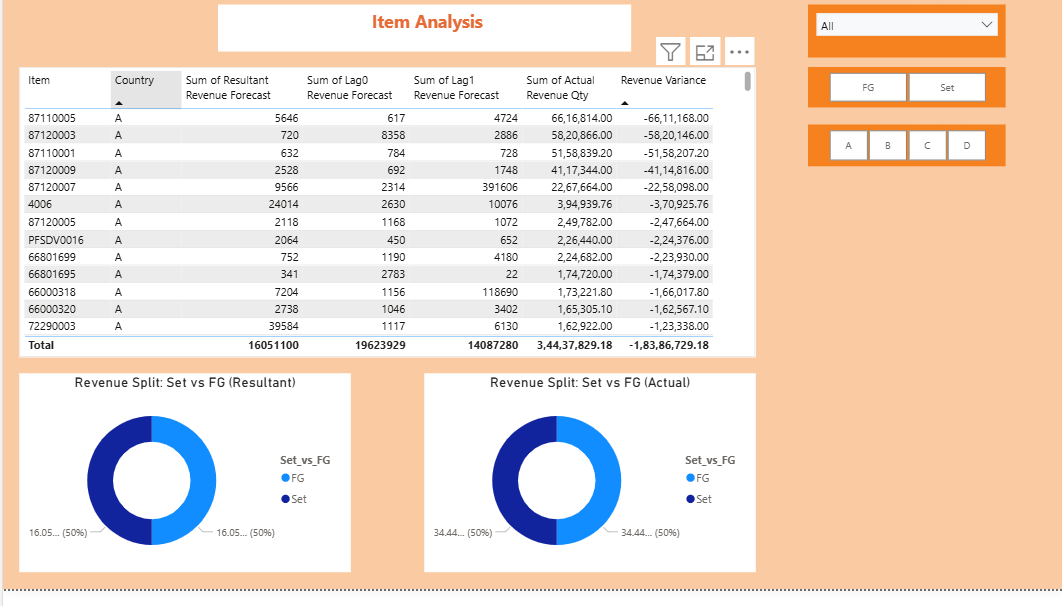

What the dashboard file says about the page in this screenshot:
{"tool":"powerbi","page":{"name":" Item Level Analysis","canvas":[1280,720],"ordinal":4},"visuals":[{"type":"slicer","fields":{"Values":["DimCountry.Country"]},"box":[971.4,160,238.6,50],"z":0},{"type":"slicer","fields":{"Values":["DimPeriod.Period"]},"box":[971.4,15.7,238.6,64.3],"z":1000},{"type":"slicer","fields":{"Values":["Forecast.Set_vs_FG"]},"box":[971.4,90,238.6,48.6],"z":2000},{"type":"tableEx","fields":{"Values":["ForecastWide.Item","ForecastWide.Country","Sum(ForecastWide.Resultant Revenue Forecast)","Sum(ForecastWide.Lag0 Revenue Forecast)","Sum(ForecastWide.Lag1 Revenue Forecast)","Sum(ForecastWide.Actual Revenue Qty)","ForecastWide.Revenue Variance"]},"box":[20,90,888.6,350],"z":3000},{"type":"donutChart","title":"Revenue Split: Set vs FG (Resultant)","fields":{"Y":["Sum(ForecastWide.Resultant Revenue Forecast)"],"Category":["Forecast.Set_vs_FG"]},"box":[20,460,400,240],"z":4000},{"type":"donutChart","title":"Revenue Split: Set vs FG (Actual)","fields":{"Category":["Forecast.Set_vs_FG"],"Y":["Sum(ForecastWide.Actual Revenue Qty)"]},"box":[508.6,460,400,240],"z":5000},{"type":"textbox","box":[260,15.7,498.6,57.1],"z":6000}]}

Visuals, with their boxes in screenshot pixels (x1, y1, x2, y2), scaled from the page's 1280x720 canvas onto the 1062x606 screenshot:
slicer - DimCountry.Country: 806, 135, 1004, 177
slicer - DimPeriod.Period: 806, 13, 1004, 67
slicer - Forecast.Set_vs_FG: 806, 76, 1004, 117
tableEx - ForecastWide.Item x ForecastWide.Country: 17, 76, 754, 370
"Revenue Split: Set vs FG (Resultant)" donutChart: 17, 387, 348, 589
"Revenue Split: Set vs FG (Actual)" donutChart: 422, 387, 754, 589
textbox: 216, 13, 629, 61
